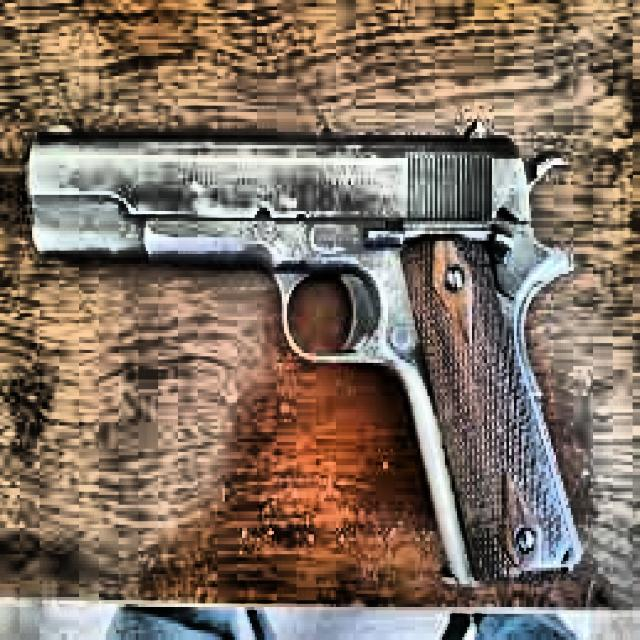Colt m1911: (22, 115, 588, 610)
